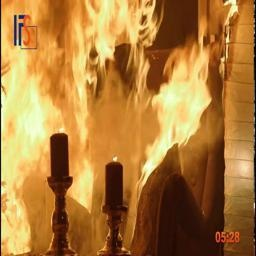fire: (3, 2, 212, 224)
